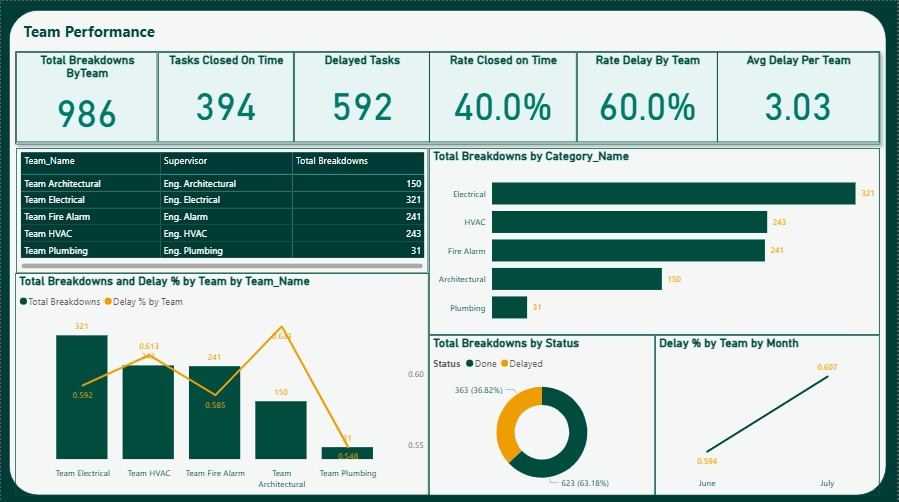

The page's visual inventory and layout, read from the dashboard file:
{"tool":"powerbi","page":{"name":"Team Performance","canvas":[1280,720],"ordinal":1},"visuals":[{"type":"shape","box":[11.7,13.3,1253.3,693.3],"z":0},{"type":"textbox","box":[26.8,22.6,1253.6,40.9],"z":1000},{"type":"shape","box":[11.7,63,1253.6,151],"z":2000},{"type":"card","title":"Total Breakdowns ByTeam","fields":{"Values":["_Measures.Breakdowns By Team"]},"box":[22,73.3,202.3,129],"z":3000},{"type":"card","title":"Tasks Closed On Time","fields":{"Values":["_Measures.Tasks Closed On Time"]},"box":[224.3,73.3,193.5,129],"z":4000},{"type":"card","title":"Delayed Tasks","fields":{"Values":["_Measures.Delayed Tasks"]},"box":[417.9,73.3,193.5,129],"z":5000},{"type":"card","title":"Rate Closed on Time","fields":{"Values":["_Measures.Rate Closed on Time"]},"box":[611.4,73.3,211.1,129],"z":6000},{"type":"card","title":"Rate Delay By Team","fields":{"Values":["_Measures.Delay % by Team"]},"box":[822.5,73.3,200.9,129],"z":7000},{"type":"card","title":"Avg Delay Per Team","fields":{"Values":["_Measures.Average Delay per Team"]},"box":[1023.4,73.3,231.7,129],"z":8000},{"type":"barChart","fields":{"Category":["Dim_Category.Category_Name"],"Y":["_Measures.Total Breakdowns"]},"box":[611.4,209.7,643.7,266.8],"z":9000},{"type":"tableEx","fields":{"Values":["Dim_Teams.Team_Name","Dim_Teams.Supervisor","_Measures.Total Breakdowns"]},"box":[22,209.7,589.4,178.9],"z":10000},{"type":"lineStackedColumnComboChart","fields":{"Category":["Dim_Teams.Team_Name"],"Y2":["_Measures.Delay % by Team"],"Y":["_Measures.Total Breakdowns"]},"box":[20.5,388.5,590.9,318.2],"z":11000},{"type":"donutChart","fields":{"Y":["_Measures.Total Breakdowns"],"Category":["Fact_Maintenance.Status"]},"box":[611.4,476.5,322.6,230.2],"z":12000},{"type":"lineChart","fields":{"Category":["Dim_Date.Date.Variation.Date Hierarchy.Month"],"Y":["_Measures.Delay % by Team"]},"box":[934,476.5,321.1,230.2],"z":13000}]}

Visuals, with their boxes in screenshot pixels (x1, y1, x2, y2), scaled from the page's 1280x720 canvas onto the 899x502 screenshot:
shape: 8, 9, 888, 493
textbox: 19, 16, 898, 44
shape: 8, 44, 889, 149
"Total Breakdowns ByTeam" card: 15, 51, 158, 141
"Tasks Closed On Time" card: 158, 51, 293, 141
"Delayed Tasks" card: 294, 51, 429, 141
"Rate Closed on Time" card: 429, 51, 578, 141
"Rate Delay By Team" card: 578, 51, 719, 141
"Avg Delay Per Team" card: 719, 51, 882, 141
barChart - Dim_Category.Category_Name x _Measures.Total Breakdowns: 429, 146, 882, 332
tableEx - Dim_Teams.Team_Name x Dim_Teams.Supervisor: 15, 146, 429, 271
lineStackedColumnComboChart - Dim_Teams.Team_Name x _Measures.Delay % by Team: 14, 271, 429, 493
donutChart - _Measures.Total Breakdowns x Fact_Maintenance.Status: 429, 332, 656, 493
lineChart - Dim_Date.Date.Variation.Date Hierarchy.Month x _Measures.Delay % by Team: 656, 332, 882, 493
